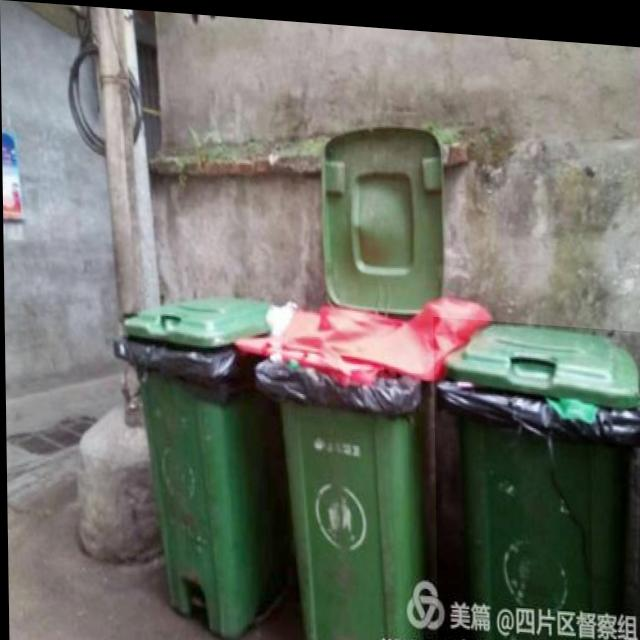garbage_bin: (432, 310, 640, 640), (109, 285, 293, 640)
overflow: (234, 276, 494, 640)
